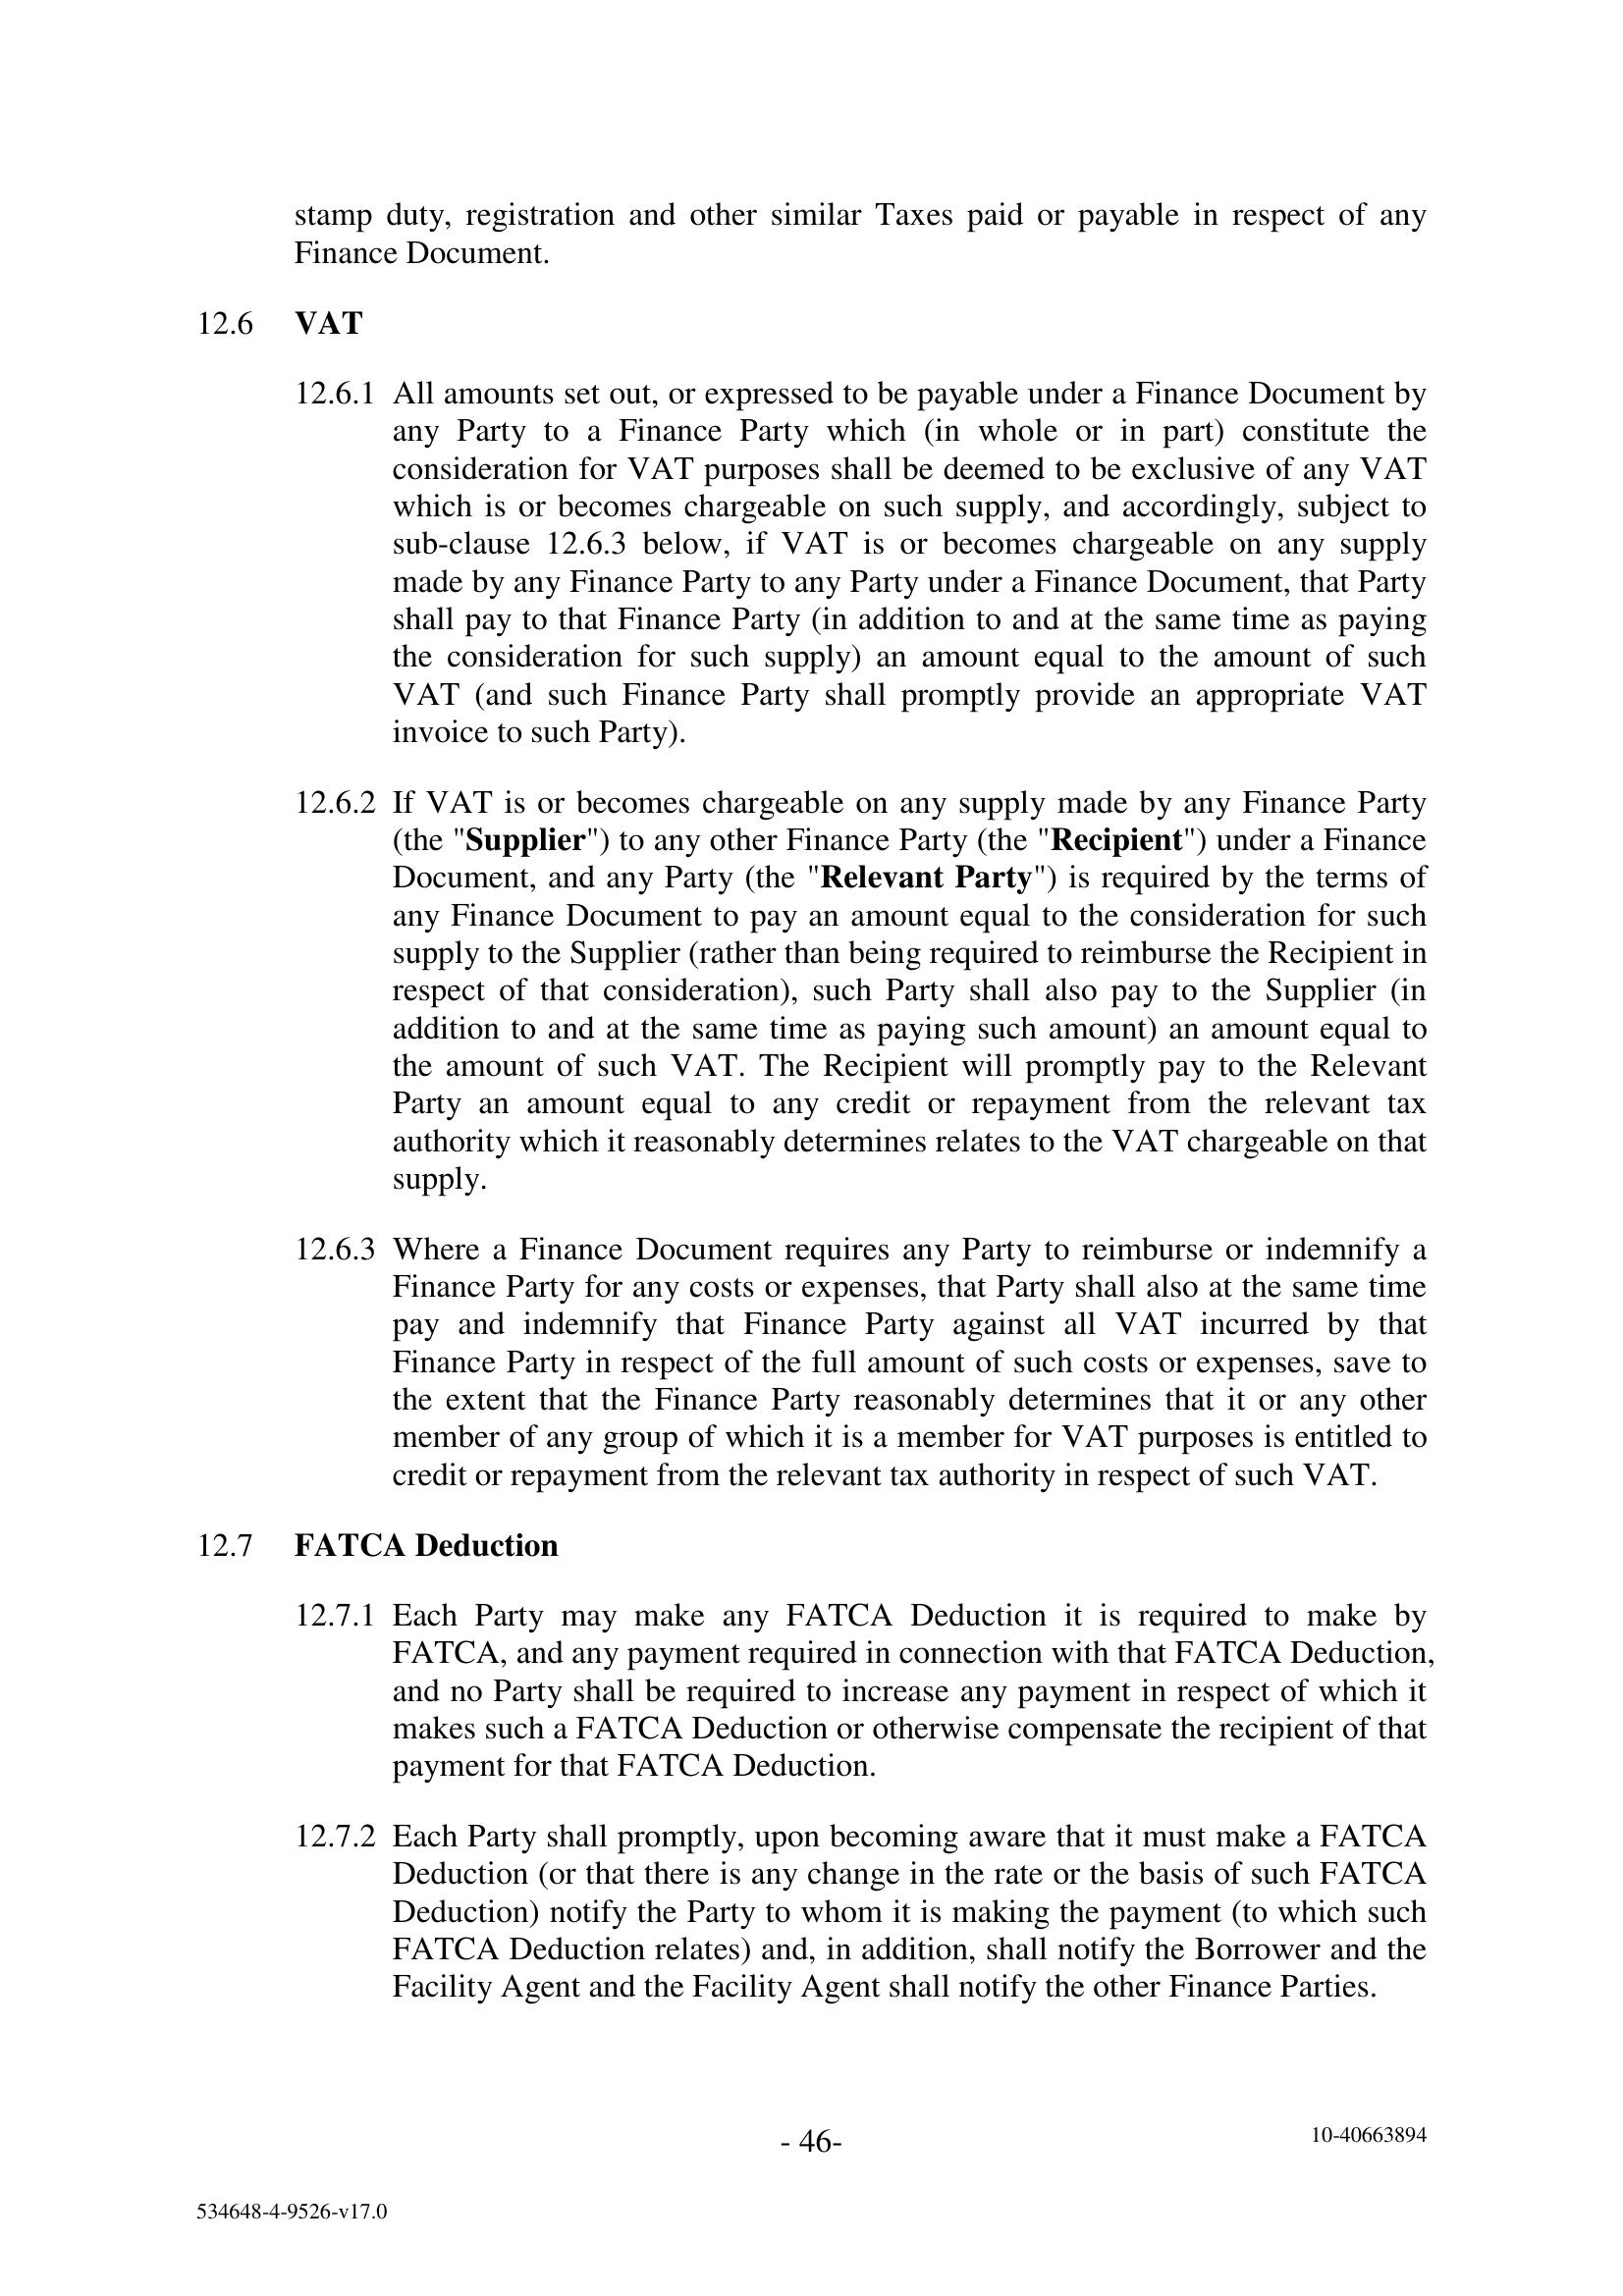pageno: (727, 2082, 903, 2213)
tag: (102, 2164, 465, 2270), (1208, 2087, 1537, 2184)
